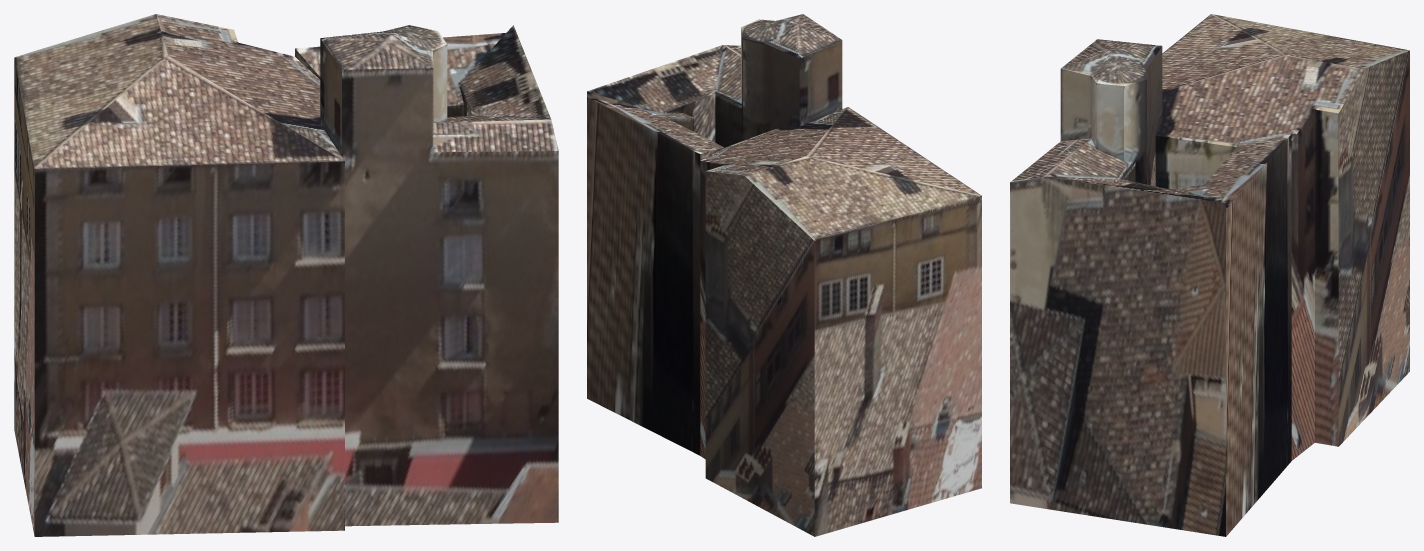
3 views of the same model, side by side, from view 1: azimuth 30°, elevation 25°; view 2: azimuth 150°, elevation 25°; view 3: azimuth 270°, elevation 25° (orthographic). The views are drawn at different scales.
Parts seen in each view (by area): view 1: Z_UP; view 2: Z_UP; view 3: Z_UP.
Boxes of the visible parts, box(x1,y1,x2,y2) form: Z_UP: box(14, 14, 558, 536); Z_UP: box(587, 14, 981, 536); Z_UP: box(1010, 14, 1409, 536).
Size of the model in its own units: 23.51 by 21.7 by 19.35.
2 materials, 1 textured.
